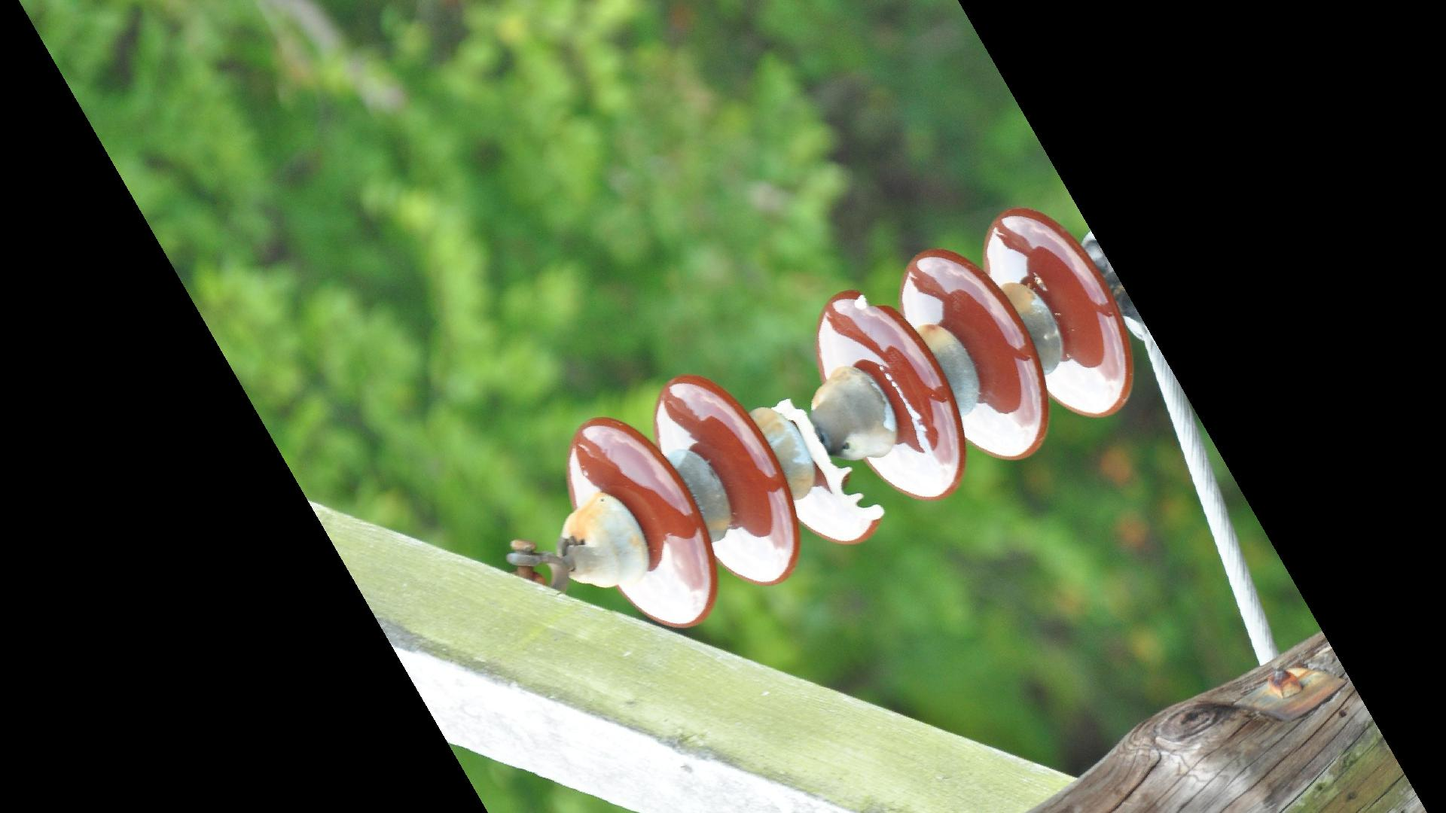insulator: (553, 200, 1145, 634)
insulator_breakage: (760, 387, 892, 536)
